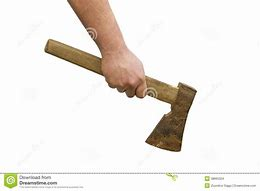axe: (42, 37, 199, 153)
